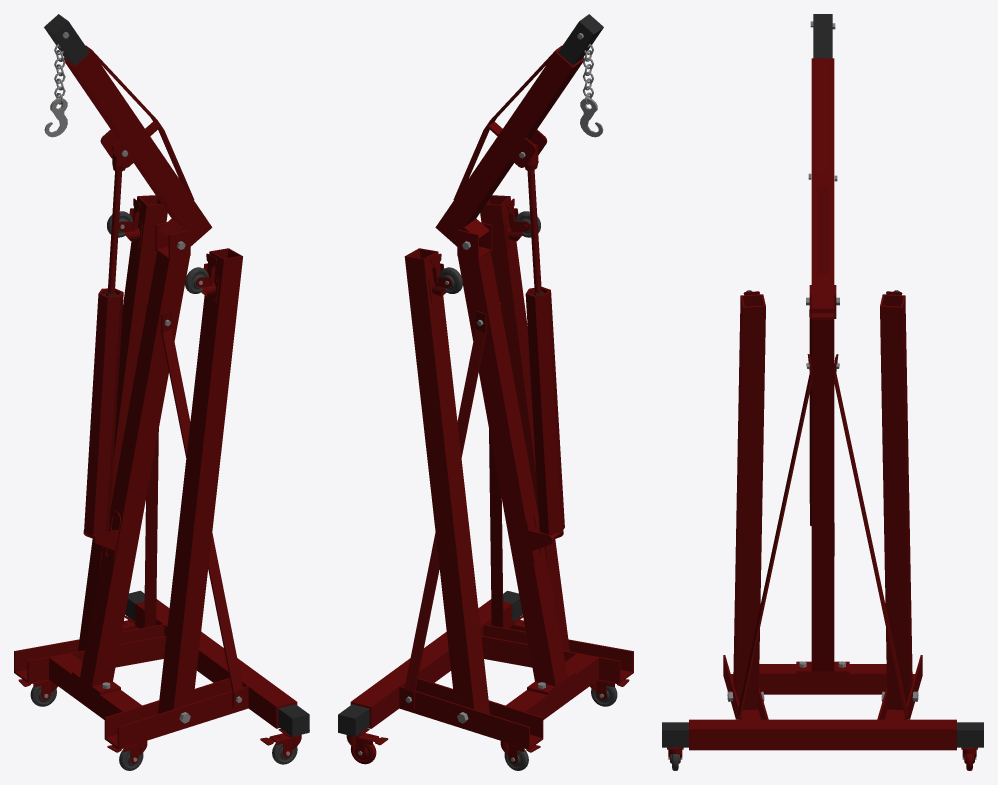
The model's file is CK_WJ_hongsejiazi_01.FBX.
The picture shows the model from 3 angles, left to right: view 1: azimuth 30°, elevation 25°; view 2: azimuth 150°, elevation 25°; view 3: azimuth 270°, elevation 25°; orthographic projection. The views are drawn at different scales.
Parts seen in each view (by area): view 1: CK_WJ_hongsejiazi_01; view 2: CK_WJ_hongsejiazi_01; view 3: CK_WJ_hongsejiazi_01.
Boxes of the visible parts, x1,y1,x2,y2 form: CK_WJ_hongsejiazi_01: (14,14,309,770); CK_WJ_hongsejiazi_01: (338,14,633,770); CK_WJ_hongsejiazi_01: (662,14,983,770).
Size of the model in its own units: 52.47 by 199 by 84.
